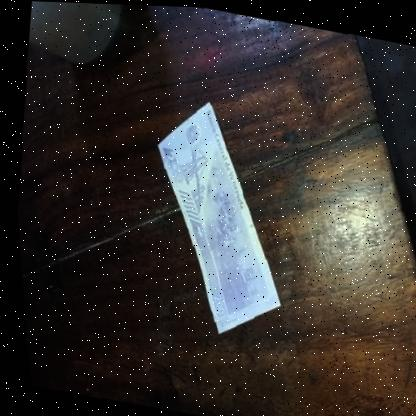two_hundred-back-vef: (121, 88, 309, 345)
